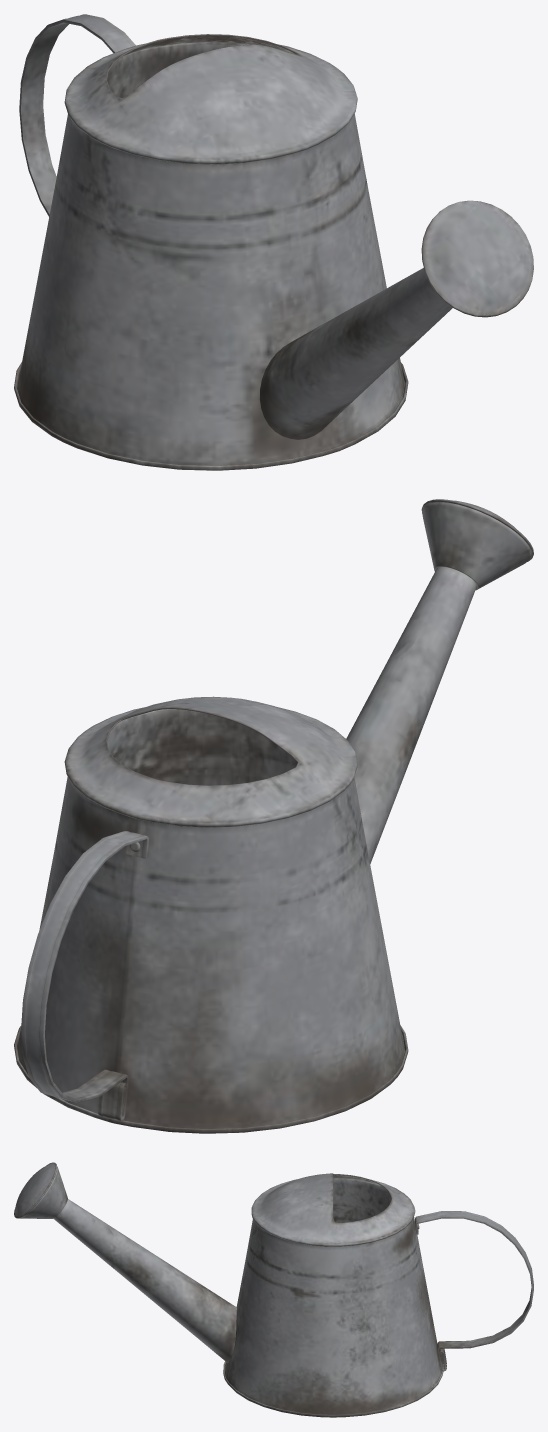
File: watering_can_metal_01.gltf
The picture shows the model from 3 angles, top to bottom: view 1: azimuth 30°, elevation 25°; view 2: azimuth 150°, elevation 25°; view 3: azimuth 270°, elevation 25°; orthographic projection. The views are drawn at different scales.
Visible parts, largest first — view 1: watering_can_metal_01; view 2: watering_can_metal_01; view 3: watering_can_metal_01.
Boxes of the visible parts, x1,y1,x2,y2 form: watering_can_metal_01: (14,14,533,470); watering_can_metal_01: (14,499,533,1133); watering_can_metal_01: (14,1162,533,1417).
Bounding box in the file's own units: 0.191 × 0.1968 × 0.4523.
Materials: 1 (1 with a texture image).
